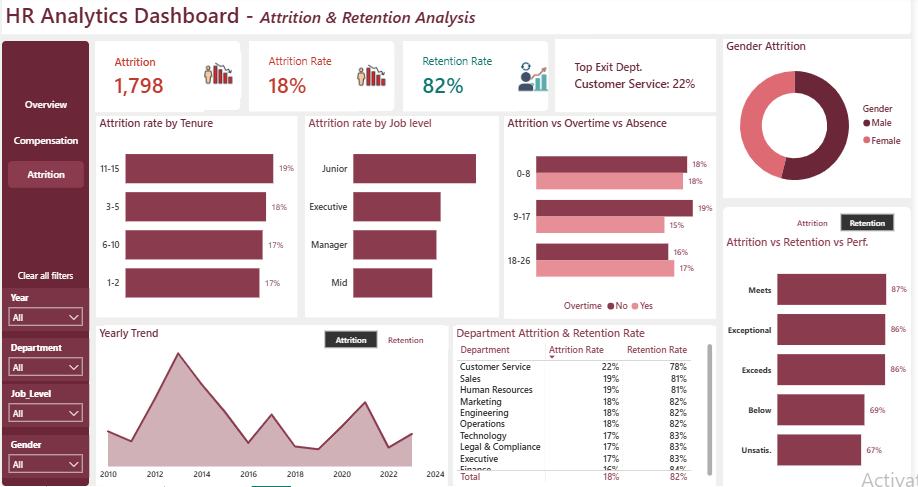

This screenshot's page, from the dashboard's own definition file:
{"tool":"powerbi","page":{"name":"Attrition","canvas":[1354,730],"ordinal":2},"visuals":[{"type":"shape","box":[0,67,129.6,663],"z":0},{"type":"shape","box":[140,67.7,215.4,103.1],"z":0,"group":"g1"},{"type":"shape","box":[0,0,1354.2,56.6],"z":1000},{"type":"shape","box":[367.7,67.7,216.9,104.6],"z":1000,"group":"g1"},{"type":"textbox","box":[0,0,879,56.6],"z":2000},{"type":"shape","box":[597,68.3,216.9,104.6],"z":2000,"group":"g1"},{"type":"shape","box":[823.2,64.6,240,107.7],"z":3000,"group":"g1"},{"type":"slicer","fields":{"Values":["DimDate.Year"]},"box":[0,435,129.6,64.1],"z":3000},{"type":"shape","box":[1074,64.6,280,236.9],"z":4000,"group":"g1"},{"type":"slicer","fields":{"Values":["DimJob.Job_Level"]},"box":[0,578,129.6,64.1],"z":4000},{"type":"shape","box":[146,491.2,518.4,239.9],"z":5000,"group":"g1"},{"type":"slicer","fields":{"Values":["DimEmloyees.Gender"]},"box":[0,654,129.6,64.1],"z":5000},{"type":"shape","box":[671.9,491.2,391.8,239.9],"z":6000,"group":"g1"},{"type":"slicer","fields":{"Values":["DimJob.Department"]},"box":[0,509.5,129.6,64.1],"z":6000},{"type":"shape","box":[1074,315.4,280,413.9],"z":7000,"group":"g1"},{"type":"actionButton","box":[16.4,397.8,96.8,37.2],"z":7000},{"type":"group","id":"g1","title":"Group 1","box":[140,64.6,1214,666.5],"z":8000},{"type":"shape","box":[453.9,179,286.2,300],"z":8000,"group":"g1"},{"type":"donutChart","title":"Gender Attrition","fields":{"Category":["DimEmloyees.Gender"],"Y":["Measures Table.Exited Employee"]},"box":[1074,64.6,280,236.9],"z":9000},{"type":"shape","box":[747.8,179,315.4,301.6],"z":9000,"group":"g1"},{"type":"shape","box":[140,179,300,300],"z":10000,"group":"g1"},{"type":"clusteredBarChart","title":"Attrition vs Retention vs Perf.","fields":{"Y":["Measures Table.Active Employee %"],"Category":["DimPerformance.Performace_Rating_1"]},"box":[1074,355.4,280,373.9],"z":10000},{"type":"tableEx","title":"Department Attrition & Retention Rate","fields":{"Values":["DimJob.Department","Measures Table.Attrition %","Measures Table.Active Employee %"]},"box":[671.9,491.6,391.8,238.4],"z":11000},{"type":"clusteredBarChart","title":"Attrition rate by Job level","fields":{"Category":["DimJob.Job_Level"],"Y":["Measures Table.Attrition %"]},"box":[450.8,178.5,289.3,300],"z":12000},{"type":"lineChart","title":"Yearly Trend","fields":{"Y":["Measures Table.Attrition %"],"Category":["DimDate.Year"]},"box":[140,491.6,524.4,238.4],"z":12000,"group":"g2"},{"type":"barChart","title":"Attrition rate by Tenure","fields":{"Category":["FactEmployee.Years Of Service Band"],"Y":["Measures Table.Attrition %"]},"box":[140,178.5,300,300],"z":13000},{"type":"clusteredBarChart","title":"Attrition vs Overtime vs Absence","fields":{"Category":["FactEmployee.Absence Band"],"Y":["Measures Table.Attrition %"],"Series":["FactEmployee.Overtime_Flag"]},"box":[750.9,178.5,312.3,301.6],"z":14000},{"type":"cardVisual","fields":{"Data":["Measures Table.Highest Attrition Dept"]},"box":[823.9,64.1,239.9,108.8],"z":15000},{"type":"cardVisual","fields":{"Data":["Measures Table.Attrition %"]},"box":[367.7,67.7,161.6,104.6],"z":16000},{"type":"cardVisual","fields":{"Data":["Measures Table.Active Employee %"]},"box":[597,67.7,170.8,104.6],"z":17000},{"type":"cardVisual","fields":{"Data":["Measures Table.Exited Employee"]},"box":[138.6,67,162.4,105.8],"z":18000},{"type":"image","box":[290.5,64.1,65.6,107.3],"z":19000},{"type":"image","box":[518.4,67,65.6,107.3],"z":20000},{"type":"image","box":[768.7,67,44.7,104.3],"z":21000},{"type":"slicer","fields":{"Values":["Attrition Metrics.Attrition Metrics"]},"box":[1141.7,317,212.3,36.9],"z":22000},{"type":"group","id":"g2","title":"Group 2","box":[140,491.6,524.4,238.4],"z":23000},{"type":"actionButton","box":[8.9,141.5,113.2,40.2],"z":24000},{"type":"slicer","fields":{"Values":["Attrition Metrics_2.Attrition Metrics_2"]},"box":[453.7,492,210.7,34.9],"z":24001,"group":"g2"},{"type":"actionButton","box":[8.9,195.2,113.2,40.2],"z":25000},{"type":"actionButton","box":[8.9,245.8,113.2,40.2],"z":26000}]}

Visuals, with their boxes in screenshot pixels (x1, y1, x2, y2), scaled from the page's 1354x730 canvas onto the 918x487 screenshot:
shape: x1=0, y1=45, x2=88, y2=486
shape: x1=95, y1=45, x2=241, y2=114
shape: x1=0, y1=0, x2=917, y2=38
shape: x1=249, y1=45, x2=396, y2=115
textbox: x1=0, y1=0, x2=596, y2=38
shape: x1=405, y1=46, x2=552, y2=115
shape: x1=558, y1=43, x2=721, y2=115
slicer - DimDate.Year: x1=0, y1=290, x2=88, y2=333
shape: x1=728, y1=43, x2=917, y2=201
slicer - DimJob.Job_Level: x1=0, y1=386, x2=88, y2=428
shape: x1=99, y1=328, x2=450, y2=486
slicer - DimEmloyees.Gender: x1=0, y1=436, x2=88, y2=479
shape: x1=456, y1=328, x2=721, y2=486
slicer - DimJob.Department: x1=0, y1=340, x2=88, y2=383
shape: x1=728, y1=210, x2=917, y2=486
actionButton: x1=11, y1=265, x2=77, y2=290
"Group 1" group: x1=95, y1=43, x2=917, y2=486
shape: x1=308, y1=119, x2=502, y2=320
"Gender Attrition" donutChart: x1=728, y1=43, x2=917, y2=201
shape: x1=507, y1=119, x2=721, y2=321
shape: x1=95, y1=119, x2=298, y2=320
"Attrition vs Retention vs Perf." clusteredBarChart: x1=728, y1=237, x2=917, y2=486
"Department Attrition & Retention Rate" tableEx: x1=456, y1=328, x2=721, y2=486
"Attrition rate by Job level" clusteredBarChart: x1=306, y1=119, x2=502, y2=319
"Yearly Trend" lineChart: x1=95, y1=328, x2=450, y2=486
"Attrition rate by Tenure" barChart: x1=95, y1=119, x2=298, y2=319
"Attrition vs Overtime vs Absence" clusteredBarChart: x1=509, y1=119, x2=721, y2=320
cardVisual - Measures Table.Highest Attrition Dept: x1=559, y1=43, x2=721, y2=115
cardVisual - Measures Table.Attrition %: x1=249, y1=45, x2=359, y2=115
cardVisual - Measures Table.Active Employee %: x1=405, y1=45, x2=521, y2=115
cardVisual - Measures Table.Exited Employee: x1=94, y1=45, x2=204, y2=115
image: x1=197, y1=43, x2=241, y2=114
image: x1=351, y1=45, x2=396, y2=116
image: x1=521, y1=45, x2=551, y2=114
slicer - Attrition Metrics.Attrition Metrics: x1=774, y1=211, x2=917, y2=236
"Group 2" group: x1=95, y1=328, x2=450, y2=486
actionButton: x1=6, y1=94, x2=83, y2=121
slicer - Attrition Metrics_2.Attrition Metrics_2: x1=308, y1=328, x2=450, y2=352
actionButton: x1=6, y1=130, x2=83, y2=157
actionButton: x1=6, y1=164, x2=83, y2=191
